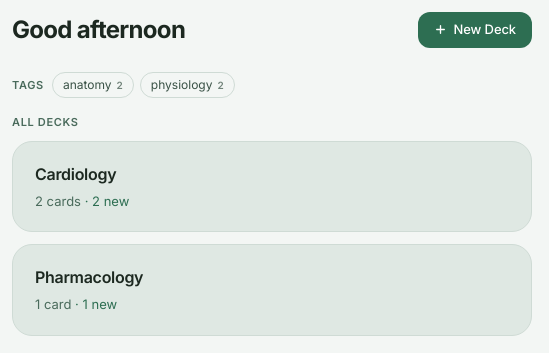
it: LibraryView — tag counts › clicking a tag chip filters decks to only those with that tag
Click the button with test id "tag-filter-physiology".
click(187, 85)  # box [140,72,235,98]
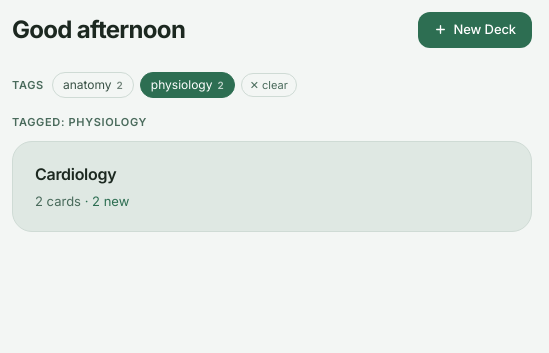
Expected: the text "Cardiology" is shown, [35,162,116,186]
Result: the text "Pharmacology" is gone
